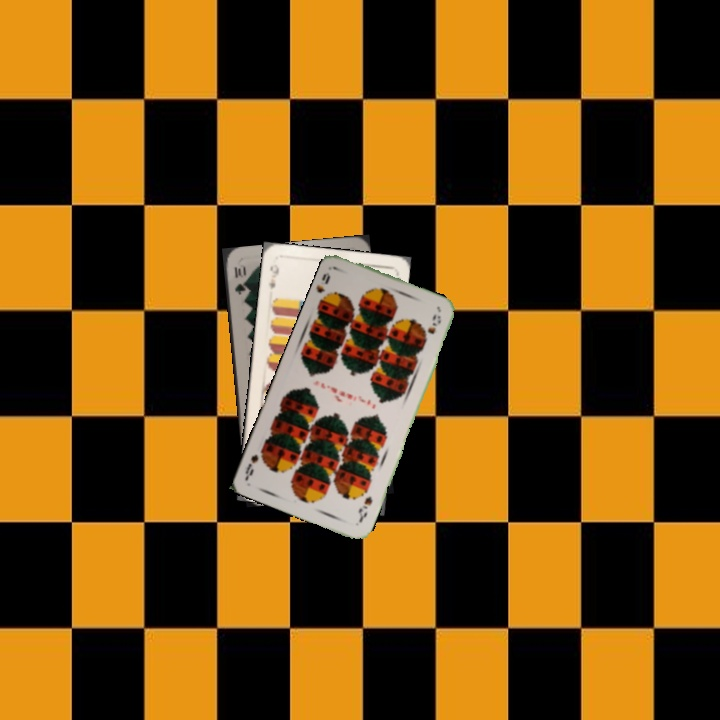E9: (265, 261, 281, 292)
G10: (230, 262, 248, 297)
S9: (313, 268, 333, 305), (354, 492, 375, 526)
